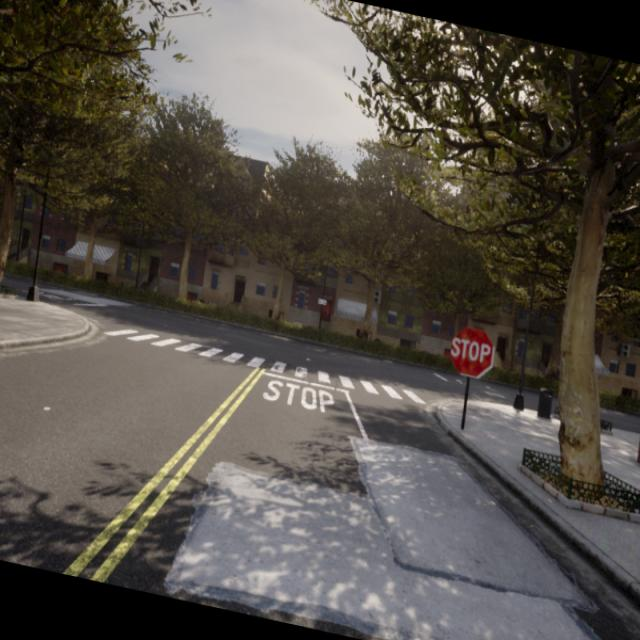stop sign: (447, 323, 496, 380), (450, 336, 492, 364)
